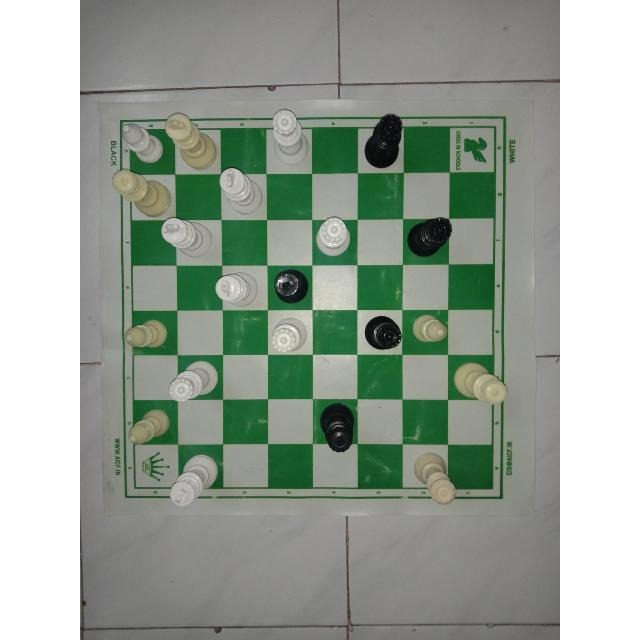black-king: (267, 272, 317, 312)
black-queen: (360, 108, 408, 170), (409, 210, 455, 261), (317, 403, 359, 454), (362, 313, 406, 355)
white-bishop: (116, 115, 166, 166), (119, 406, 174, 448), (121, 313, 175, 355), (411, 308, 455, 354)
white-king: (157, 112, 221, 168), (166, 452, 218, 516), (161, 213, 213, 261), (216, 166, 265, 212), (214, 269, 264, 312)
white-queen: (264, 99, 312, 166), (111, 166, 171, 217), (450, 360, 514, 404), (408, 453, 460, 506), (169, 357, 225, 406), (314, 216, 356, 261), (266, 320, 308, 360)
